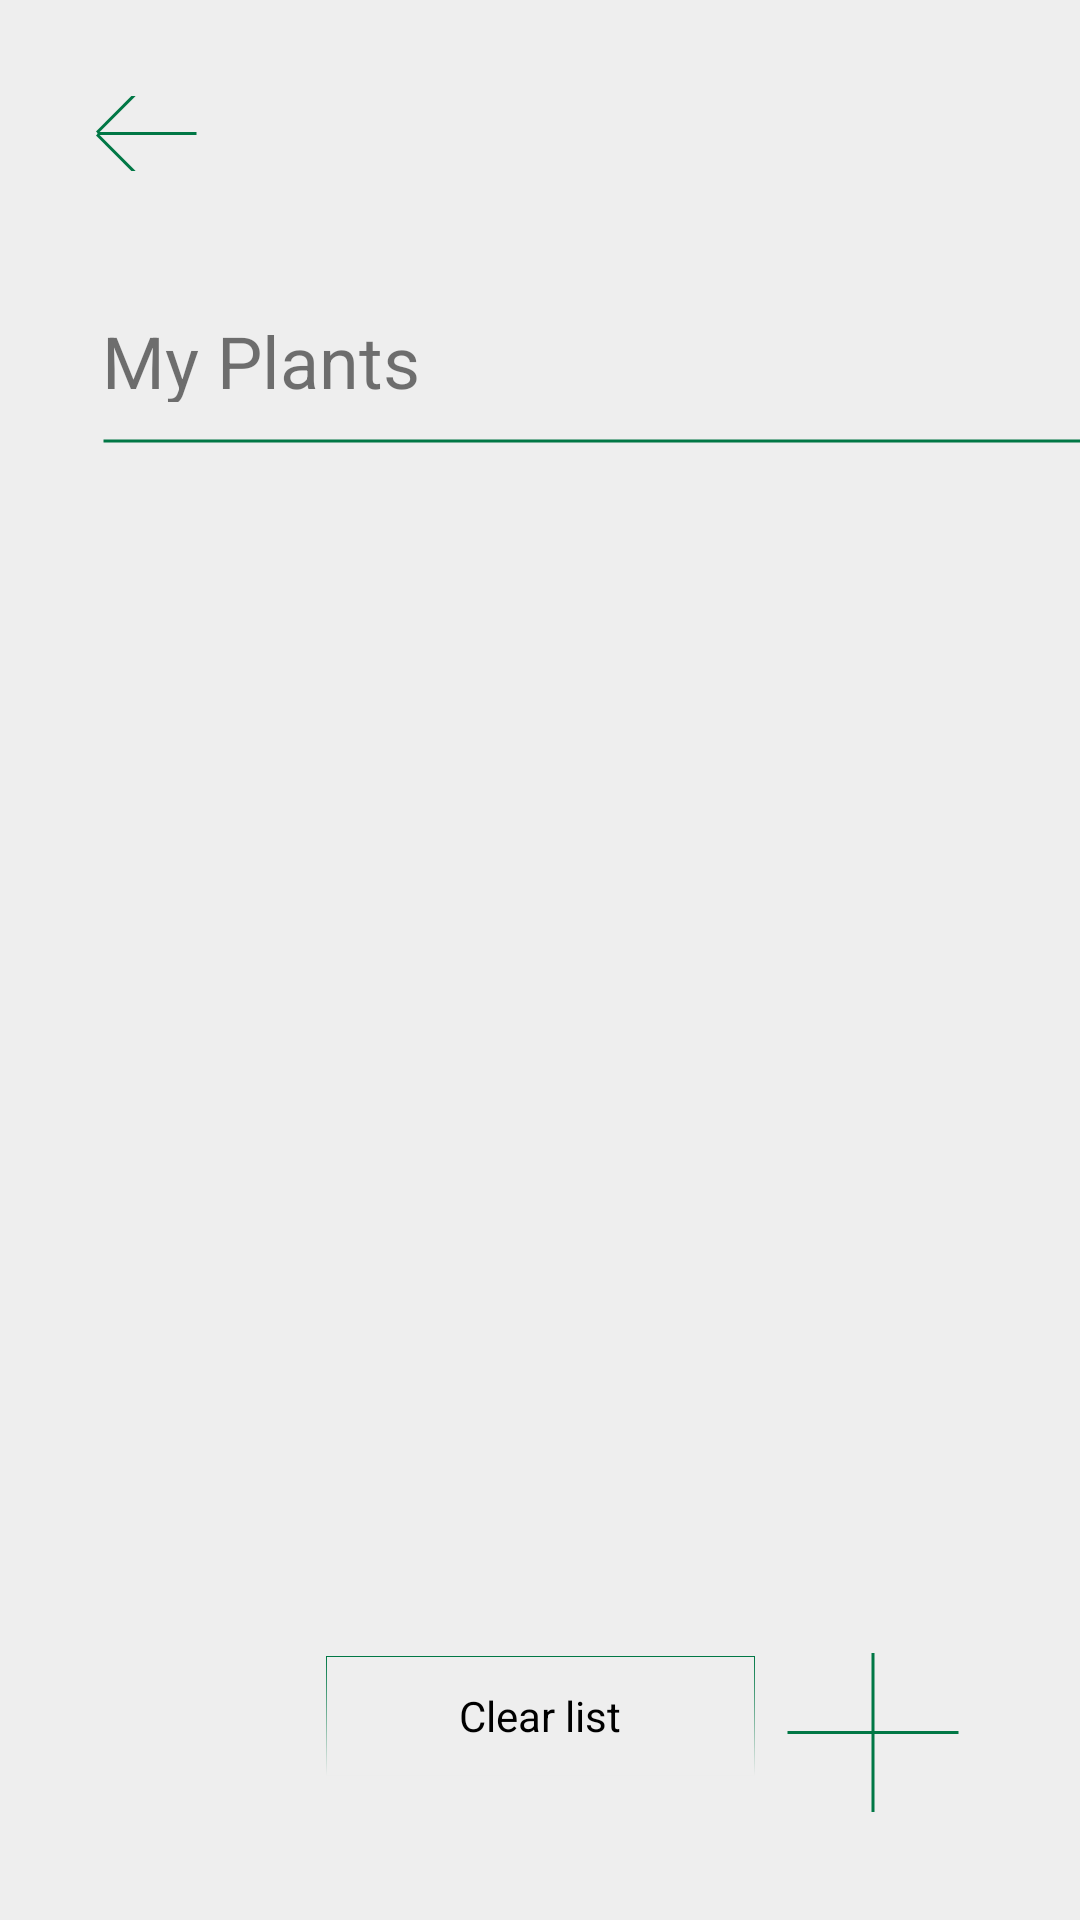

Locate icon controls on the screen. Image size 1080px x 1920px, boxes as box(x1, y1, x2, y2).
arrow: box(96, 96, 197, 171)
plus: box(787, 1653, 959, 1812)
